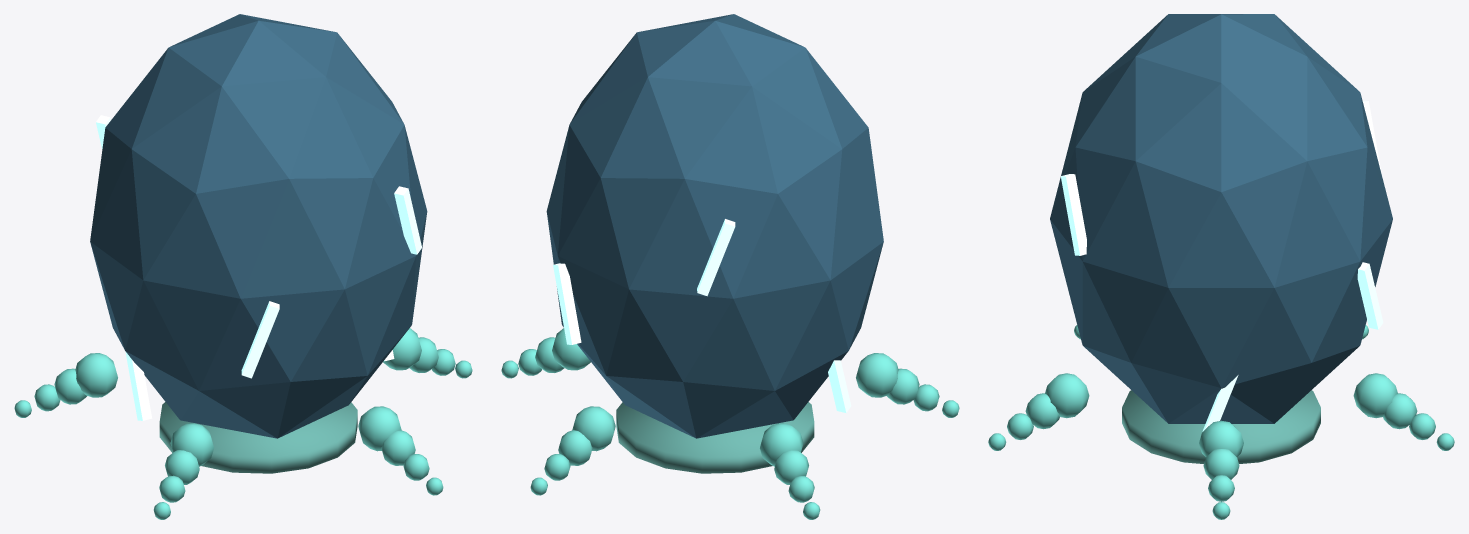
Rendered from egg_deepsea_00.glb.
3 views of the same model, side by side, from view 1: azimuth 30°, elevation 25°; view 2: azimuth 150°, elevation 25°; view 3: azimuth 270°, elevation 25° (orthographic).
Visible parts, largest first — view 1: ico; view 2: ico; view 3: ico.
Boxes of the visible parts, x1=… form: ico: x1=14, y1=14, x2=472, y2=519; ico: x1=501, y1=14, x2=959, y2=519; ico: x1=988, y1=14, x2=1454, y2=519.
Size of the model in its own units: 0.9843 by 1 by 1.03.
